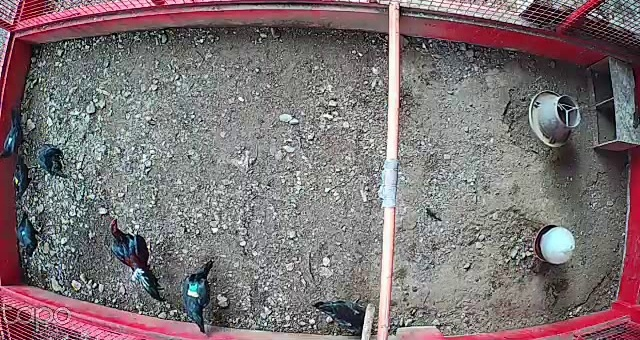Chicken: (178, 260, 219, 332), (313, 289, 365, 335), (0, 105, 30, 161), (16, 207, 47, 261), (36, 144, 73, 183), (11, 152, 38, 204)
Rooster: (107, 215, 170, 306)
Saddle_Color_Blue: (20, 229, 26, 236)
Saddle_Color_Yellow: (12, 177, 21, 186)
Saddle_Color_YellowGreen: (186, 285, 201, 298)
